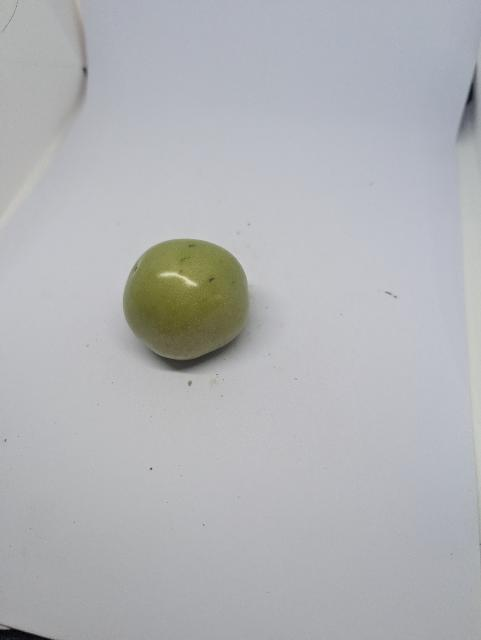green: (120, 234, 252, 362)
